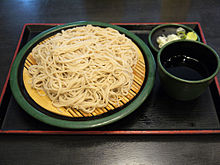Soba: (27, 24, 140, 115)
